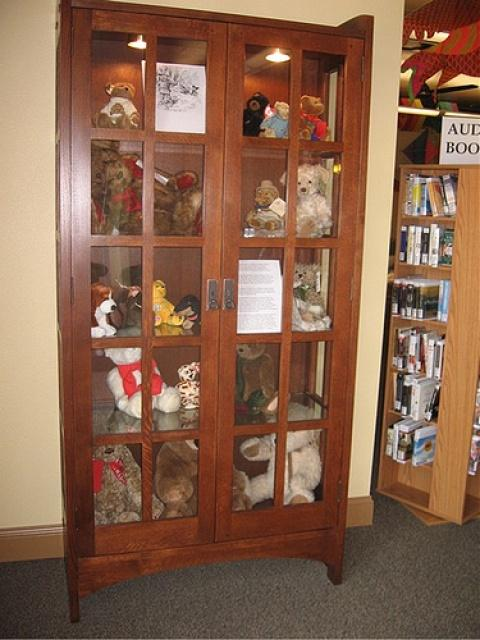Lemari: (56, 0, 375, 628)
